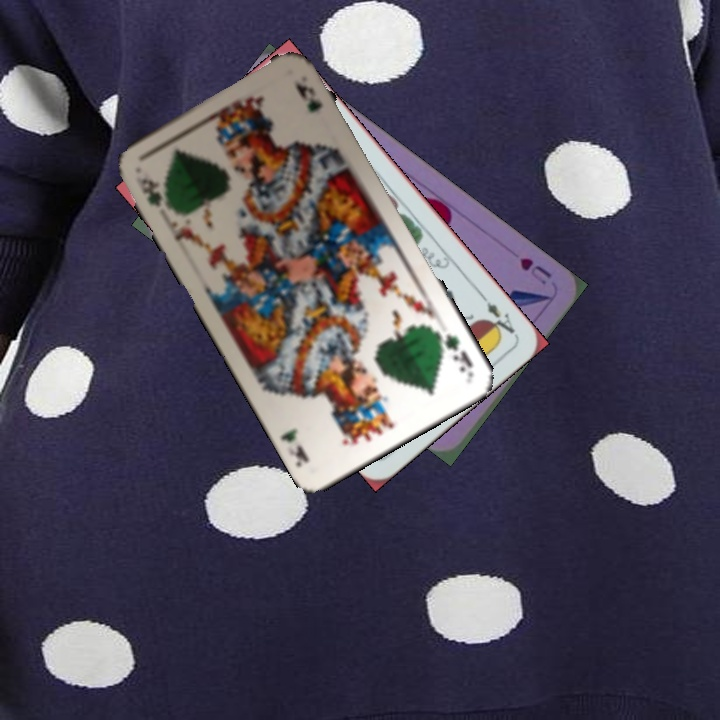EA: (476, 289, 518, 341)
GK: (431, 326, 476, 376), (131, 173, 175, 213)
HU: (515, 253, 555, 288)
